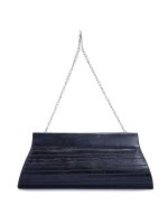bag: (13, 31, 155, 192)
